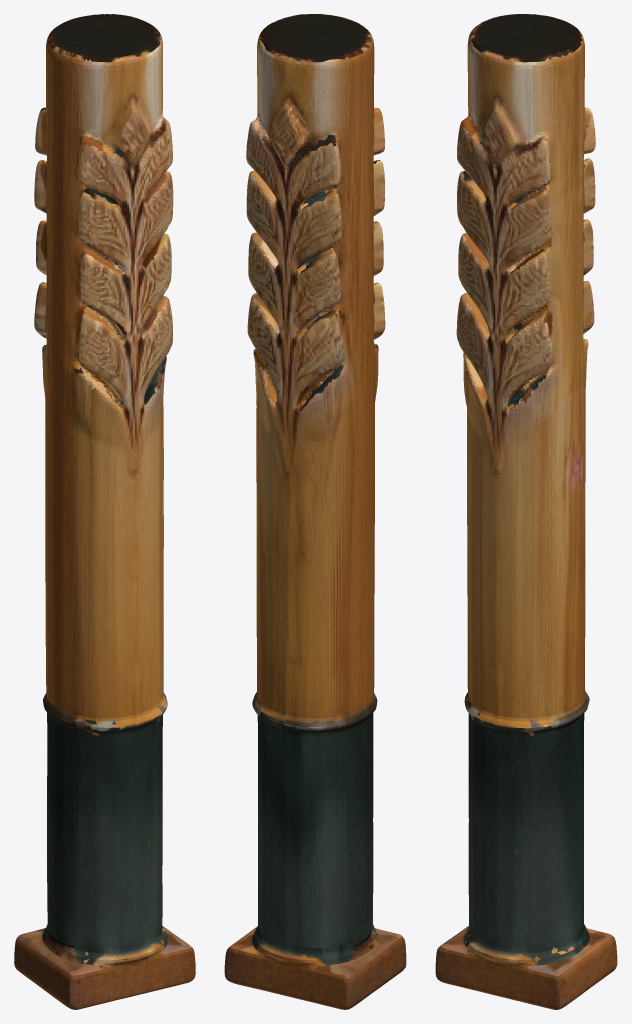
Rendered from traveler_env_coast_kudo_fox_pillar_00001_.glb.
The picture shows the model from 3 angles, left to right: view 1: azimuth 30°, elevation 25°; view 2: azimuth 150°, elevation 25°; view 3: azimuth 330°, elevation 25°; orthographic projection.
Visible parts, largest first — view 1: temp_mesh.ply; view 2: temp_mesh.ply; view 3: temp_mesh.ply.
Part boxes in pixels (x1,y1,x2,y2): temp_mesh.ply: (14, 14, 195, 1009); temp_mesh.ply: (224, 14, 406, 1009); temp_mesh.ply: (435, 14, 617, 1009).
Bounding box in the file's own units: 0.2811 × 1.97 × 0.2424.
1 material, 1 textured.
